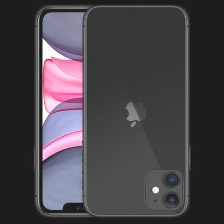phone: (80, 2, 191, 221), (33, 4, 134, 220)
